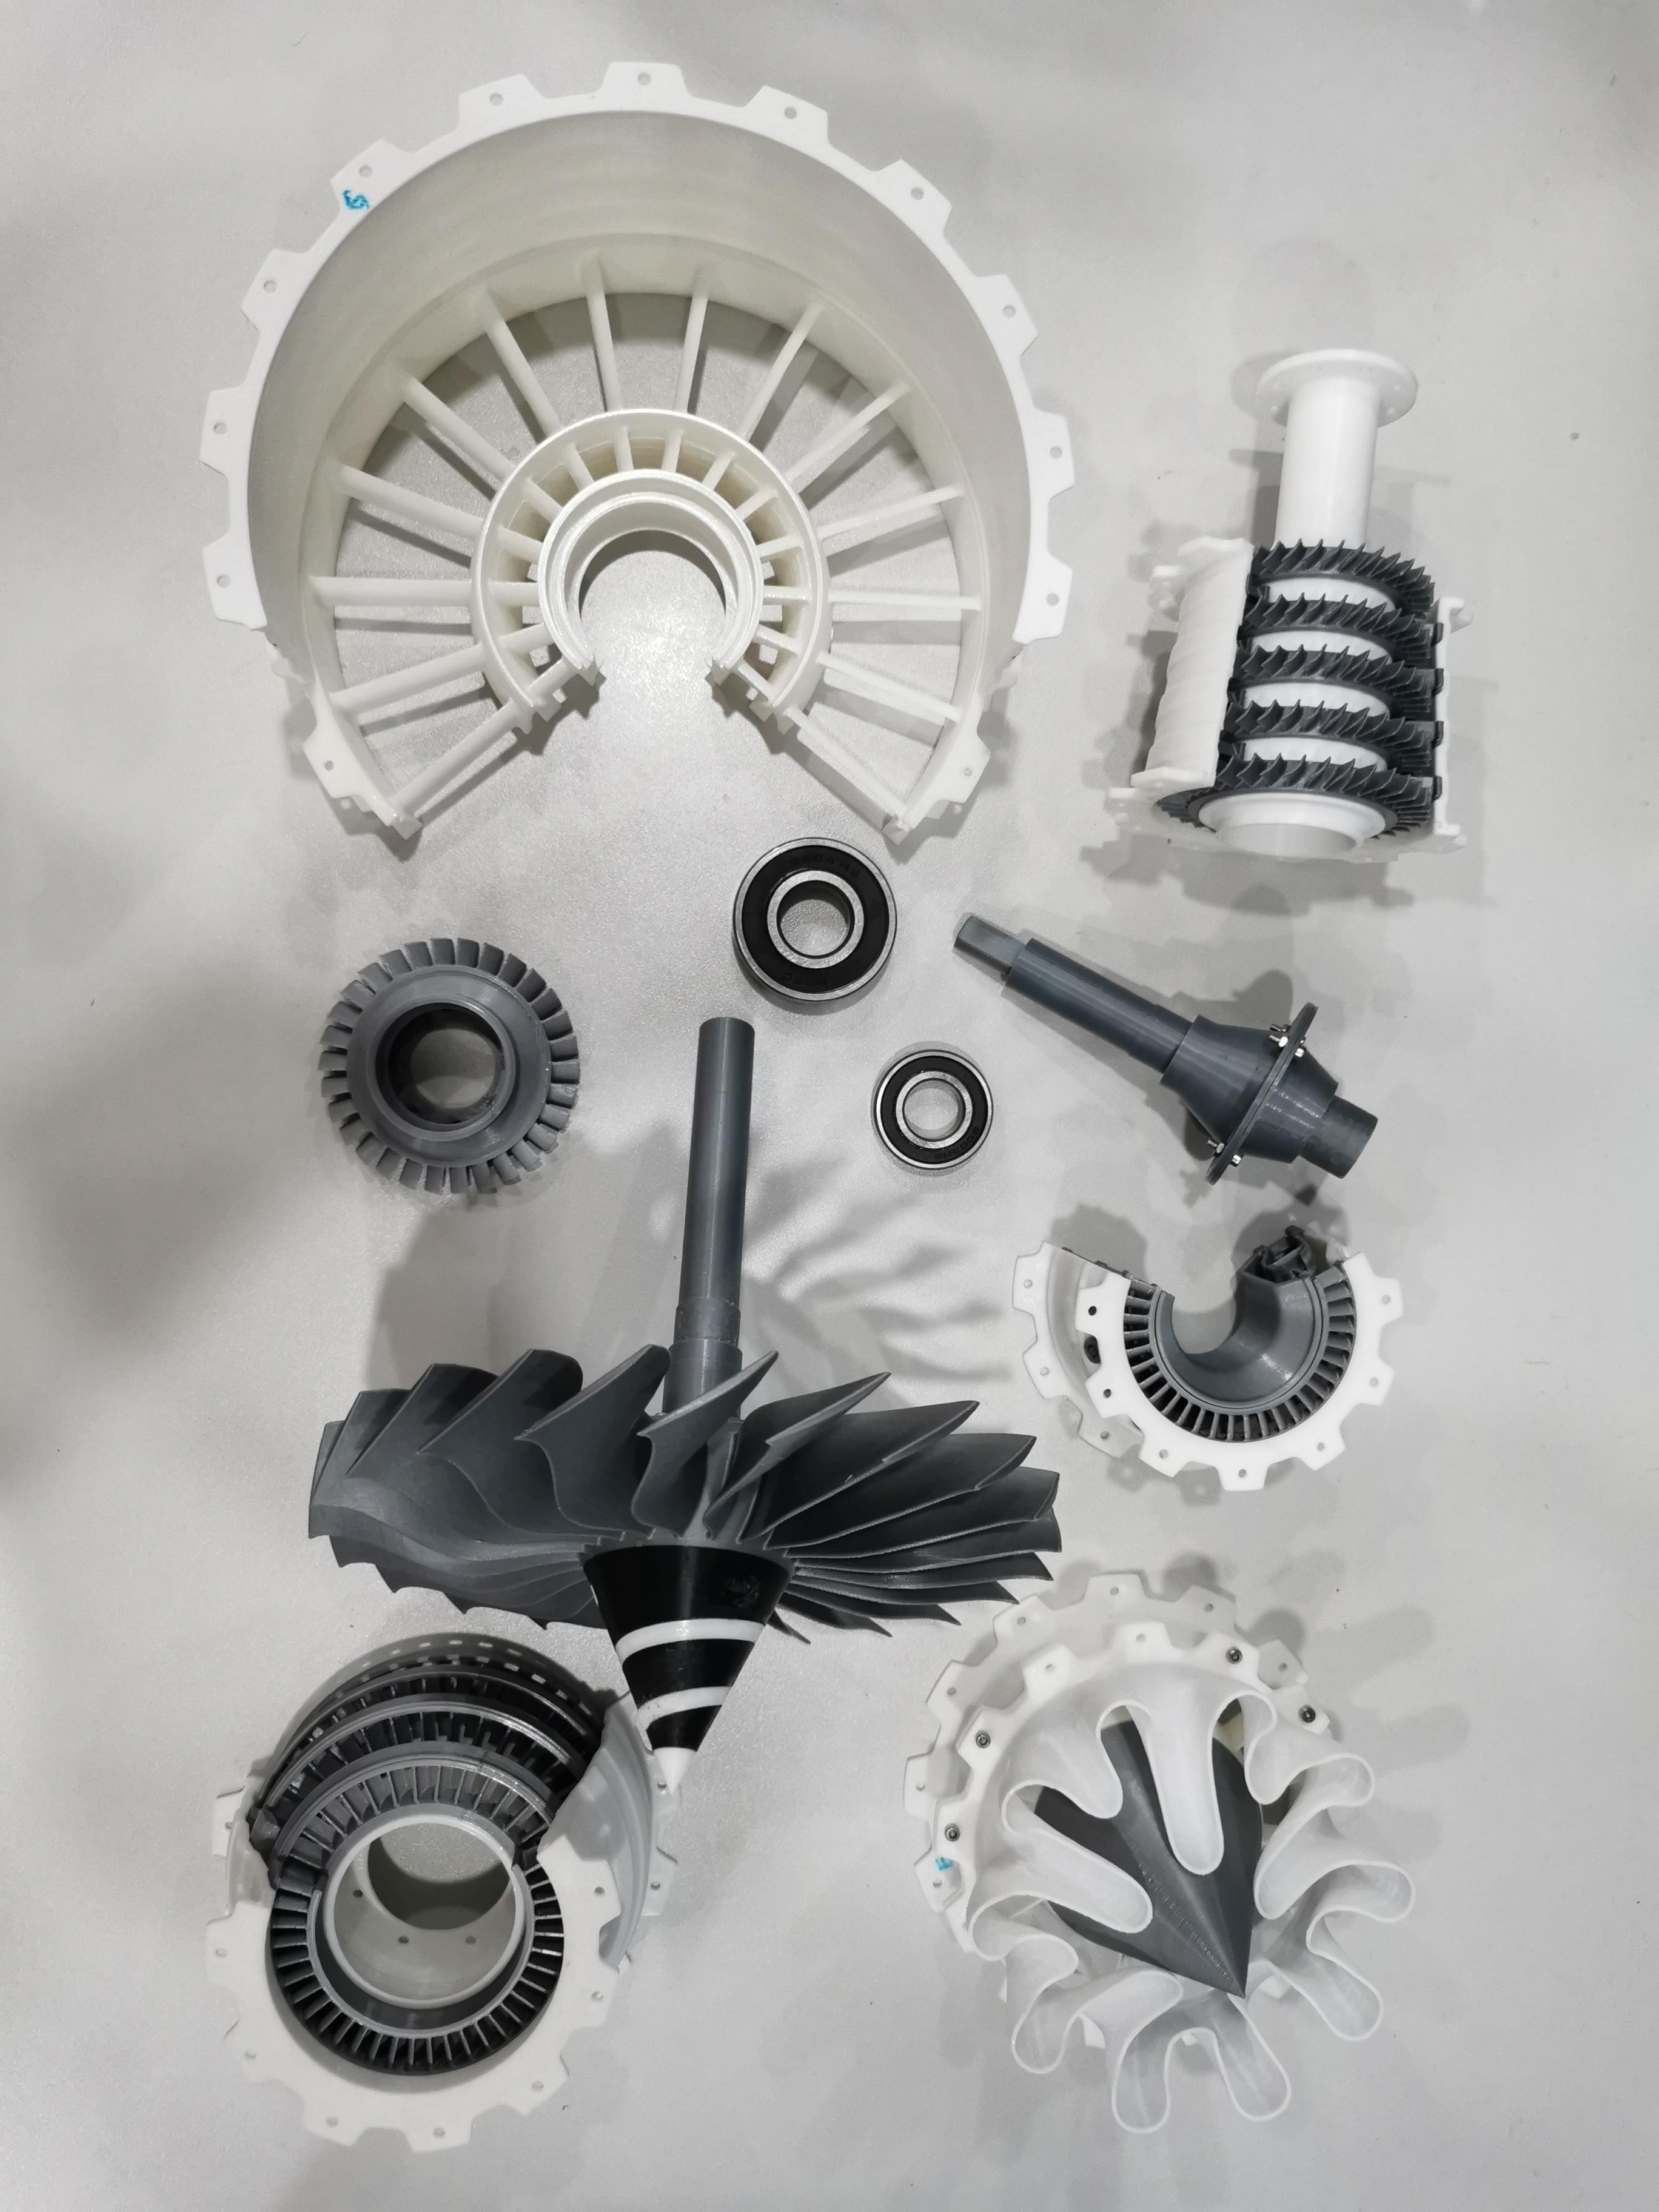Bearing-6003: (856, 1036, 1025, 1188)
Bearing-6204: (716, 824, 906, 1021)
Combustion Section: (1000, 1219, 1427, 1519)
Fan Casing and Support: (188, 54, 1086, 860)
Fan and Low Pressure Shaft: (305, 1008, 1070, 1804)
HPT Section: (301, 920, 599, 1231)
High Pressure Spool: (1098, 329, 1481, 888)
LPT Section: (195, 1632, 702, 2163)
Low Pressure Spool: (945, 897, 1398, 1197)
Nozzle Section: (896, 1555, 1427, 2142)
